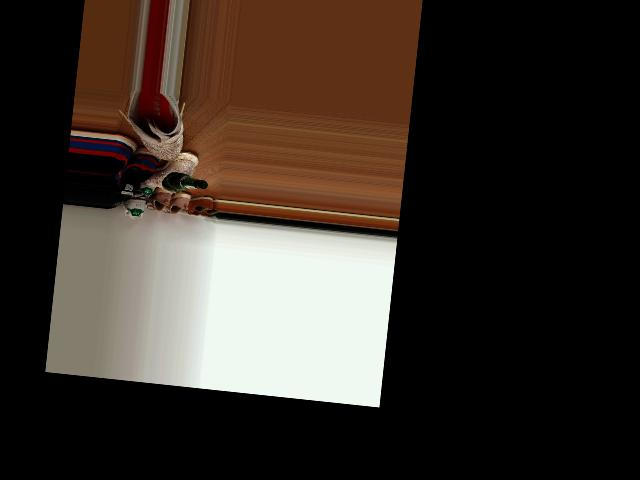beer: (161, 171, 209, 192)
